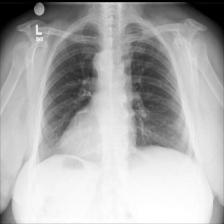normal: (36, 14, 198, 170)
